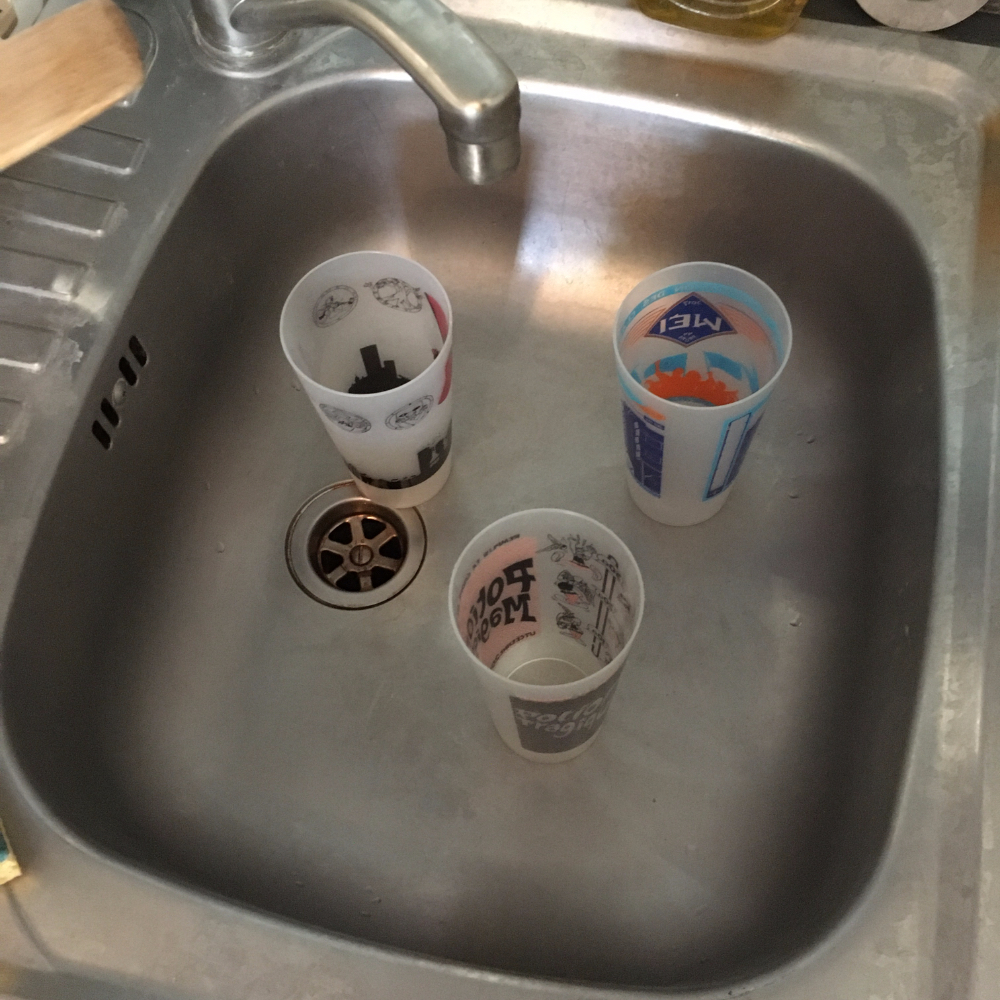ecocup: (449, 509, 644, 765), (614, 260, 792, 527), (278, 250, 454, 509)
